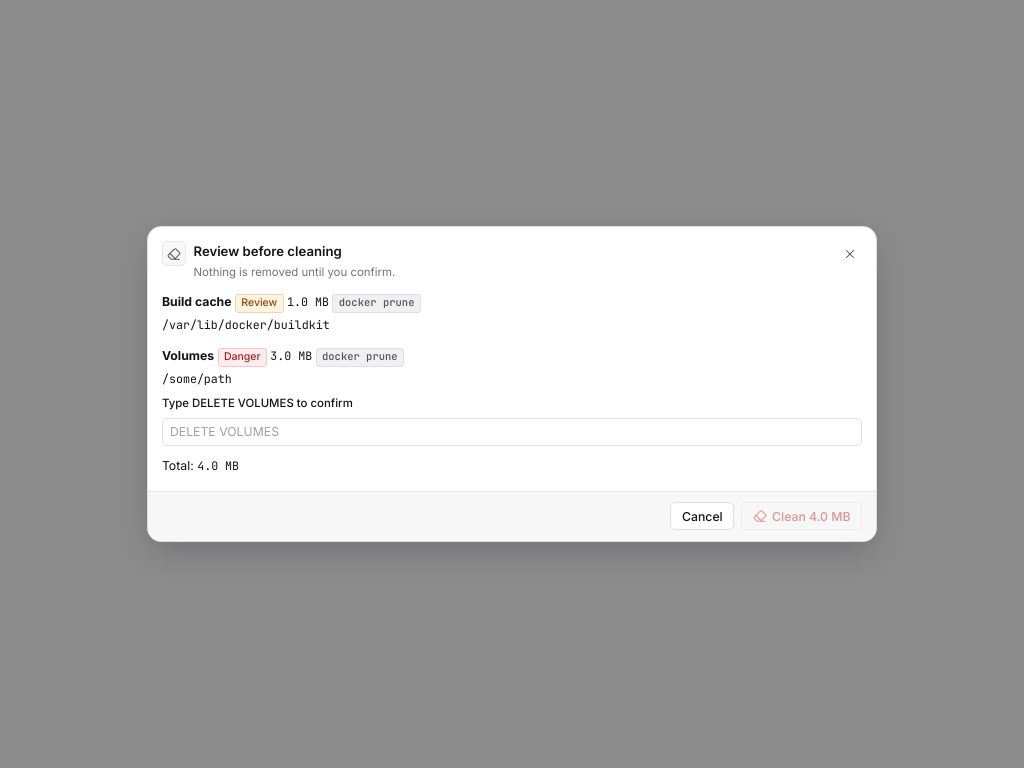
Test: ReviewCleanModal › keeps Confirm disabled until every typed text matches
Expected: the button "Clean 4.0 MB" is disabled, [741,502,862,530]
Type "delete volumes" into the field with placeholder "DELETE VOLUMES" at (512,432), box [162,418,862,446]
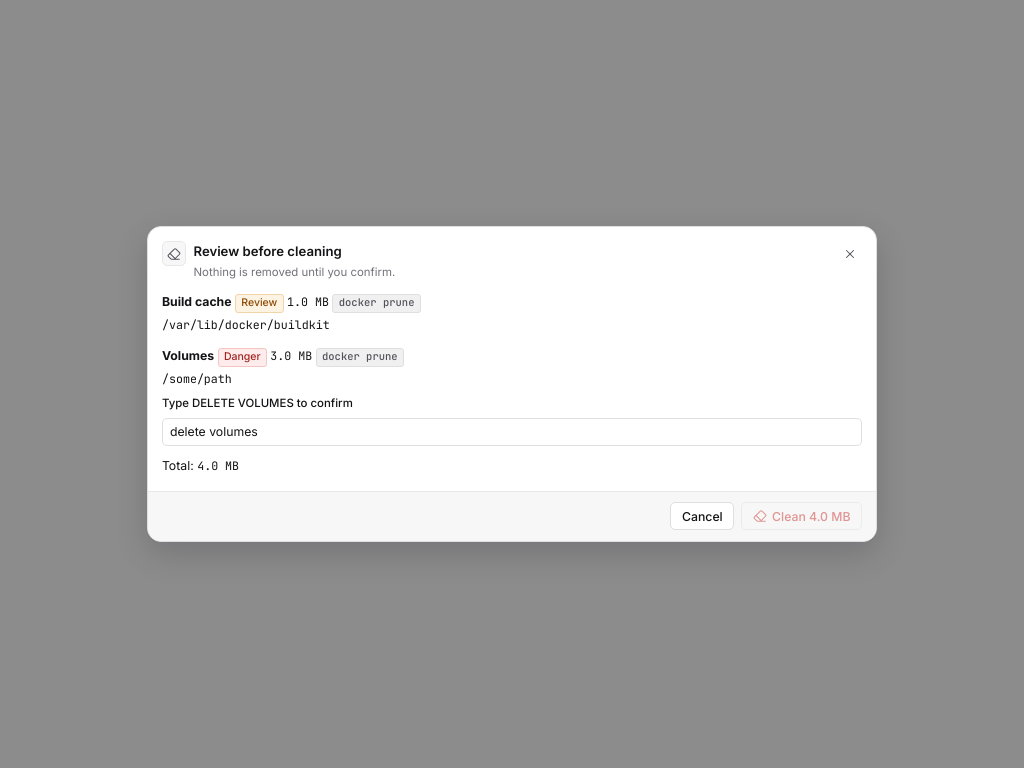
Expected: the button "Clean 4.0 MB" is disabled, [741,502,862,530]
Replace the text in the field with placeholder "DELETE VOLUMES" with "DELETE VOLUMES" at (512,432), box [162,418,862,446]
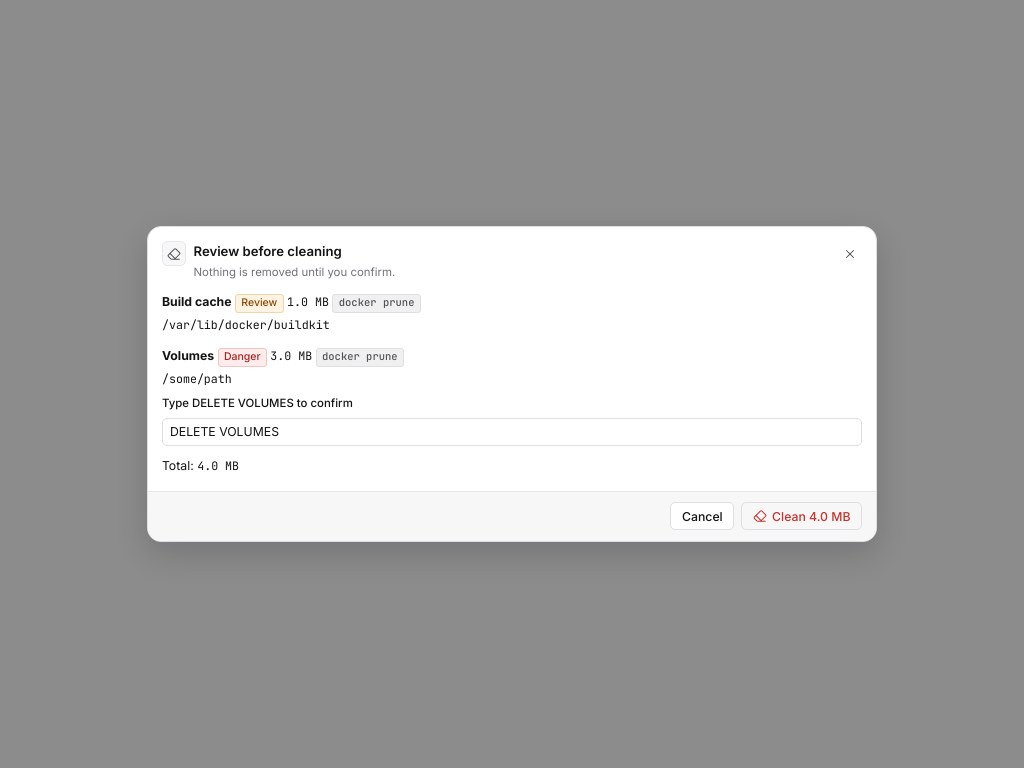
Now the button "Clean 4.0 MB" is enabled, box [741,502,862,530]
